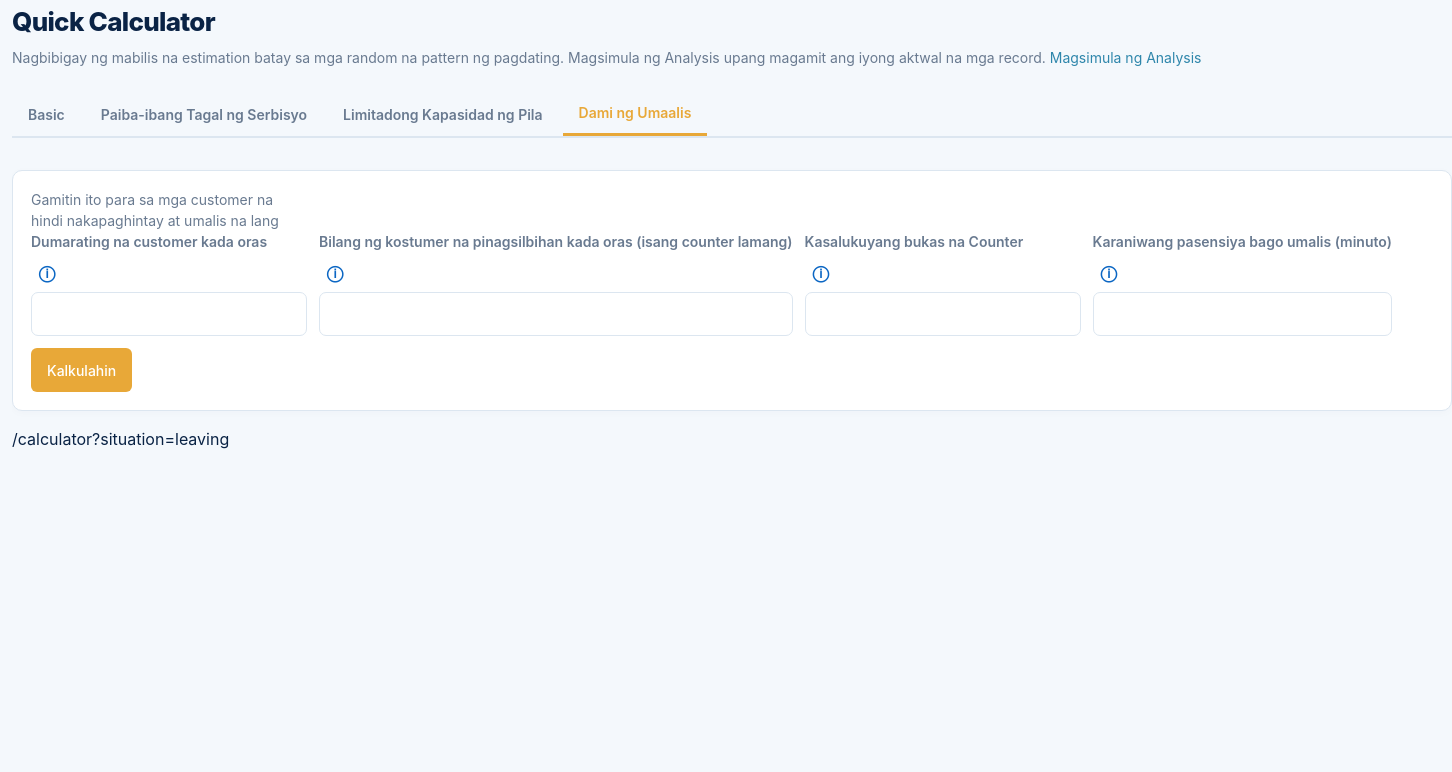
Quick calculator (U9 + B2) › discloses the same Erlang-A meaning in Filipino
Type "20" into the number field labelled "Dumarating na customer kada oras".
click(169, 314); type("20")  # box [31,292,307,336]
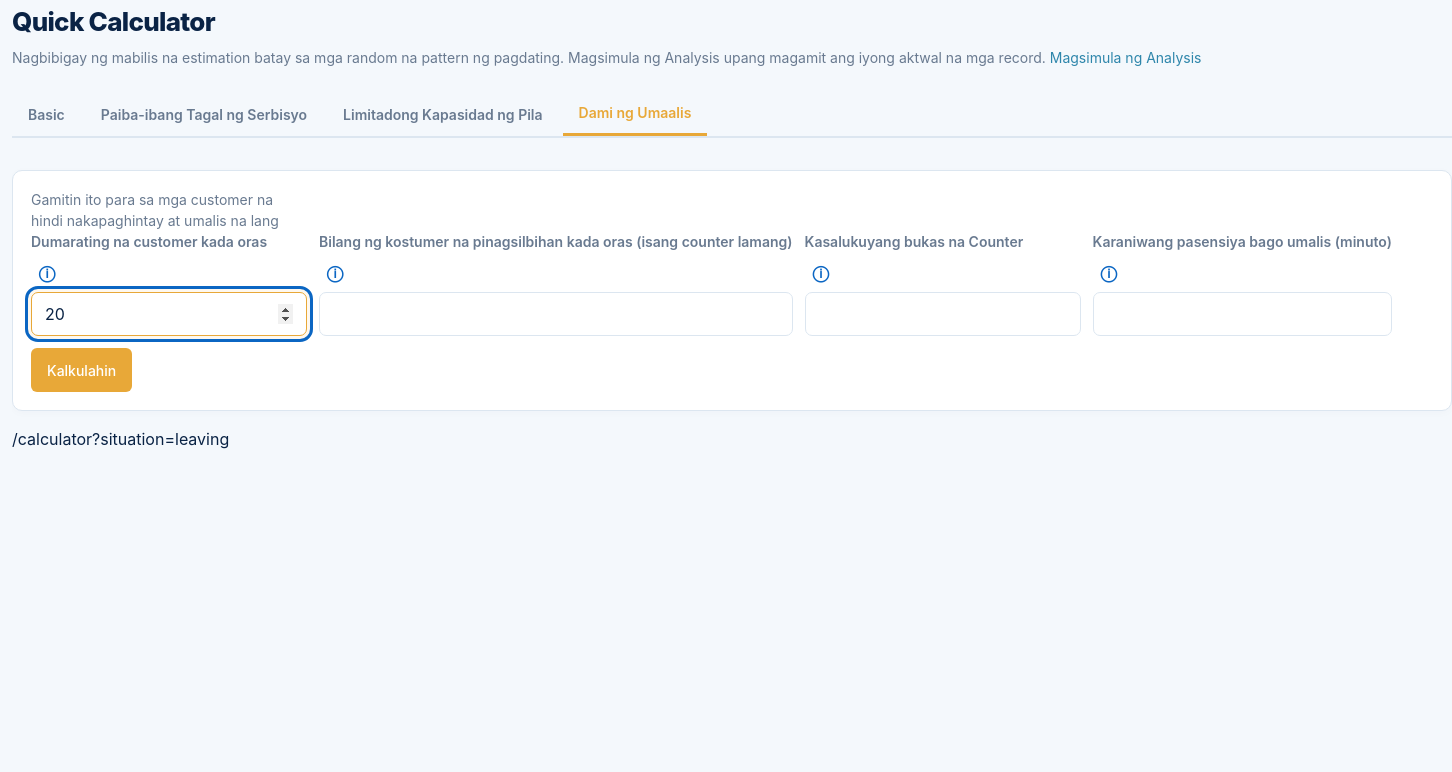
Type "6" into the number field labelled "Bilang ng kostumer na pinagsilbihan kada oras (isang counter lamang)".
click(556, 314); type("6")  # box [319,292,792,336]
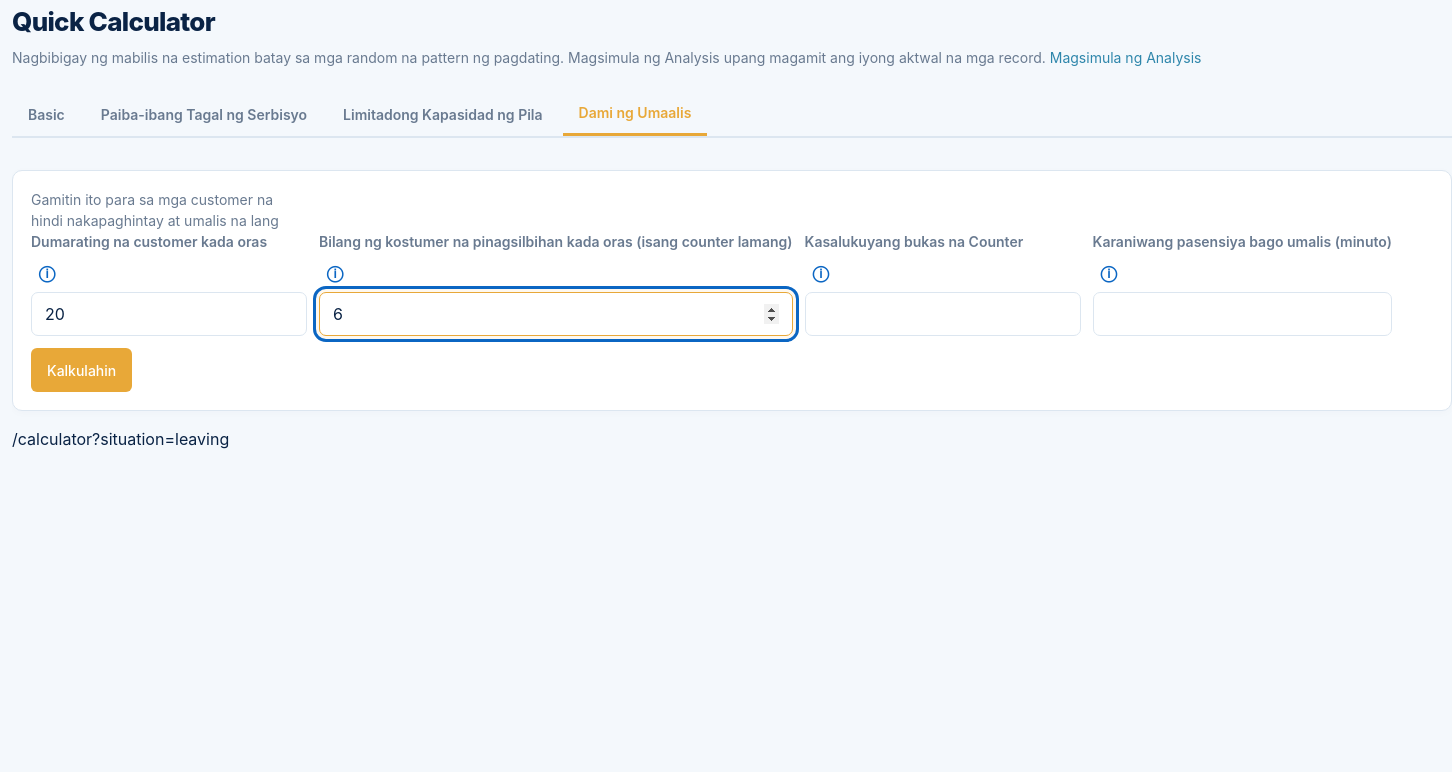
Type "2" into the number field labelled "Kasalukuyang bukas na Counter".
click(942, 314); type("2")  # box [804,292,1080,336]
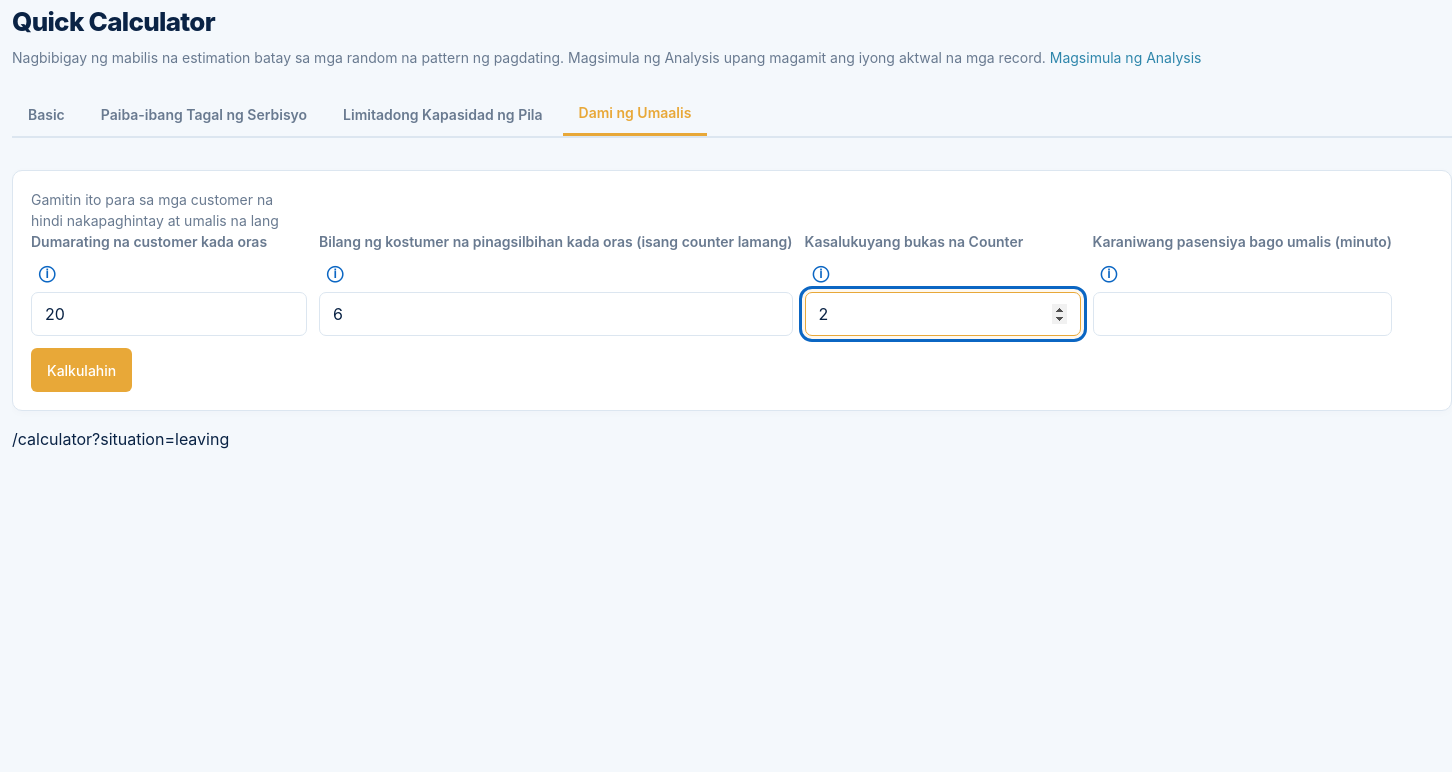
Type "60" into the number field labelled "Karaniwang pasensiya bago umalis (minuto)".
click(1242, 314); type("60")  # box [1092,292,1392,336]
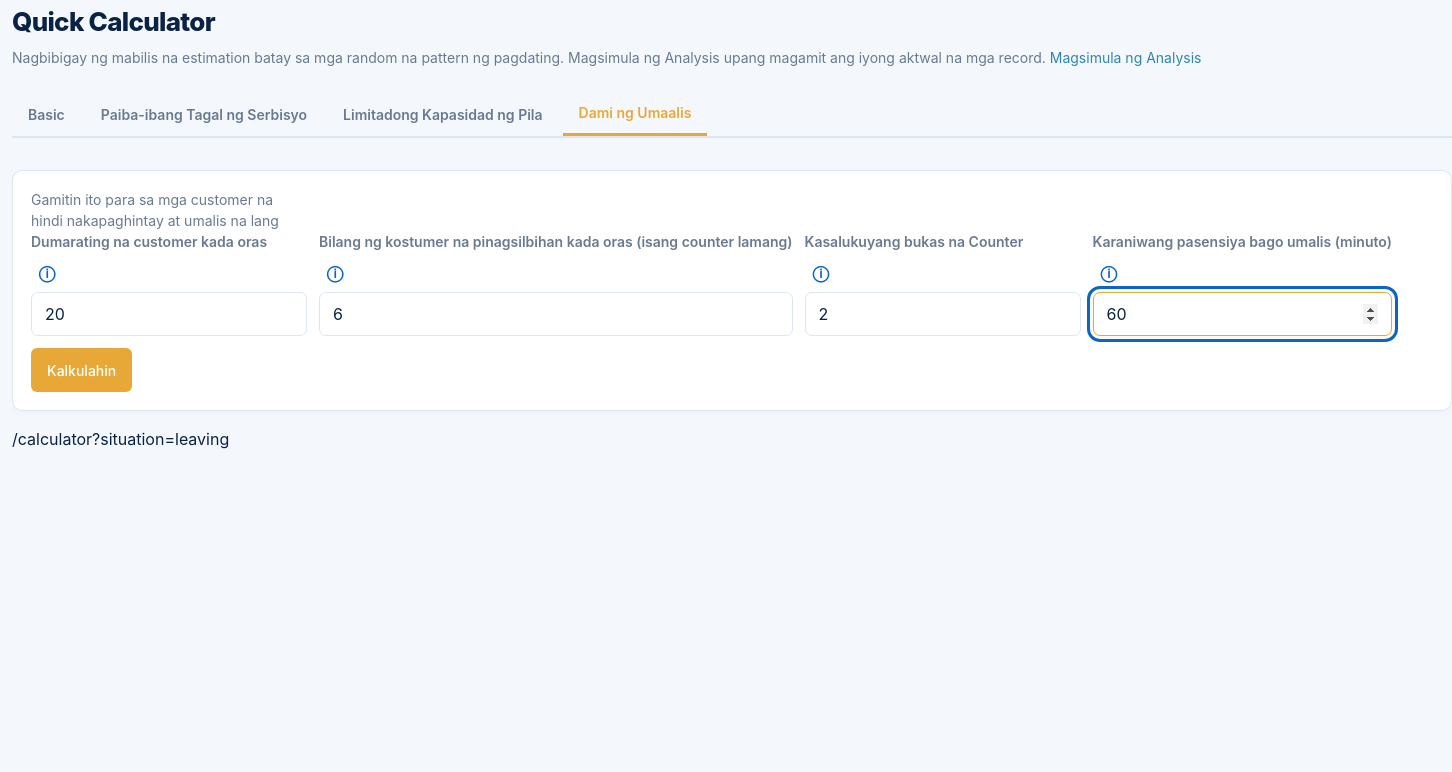
Click the button "Kalkulahin".
click(82, 370)  # box [31,348,132,392]
(page scrolled)
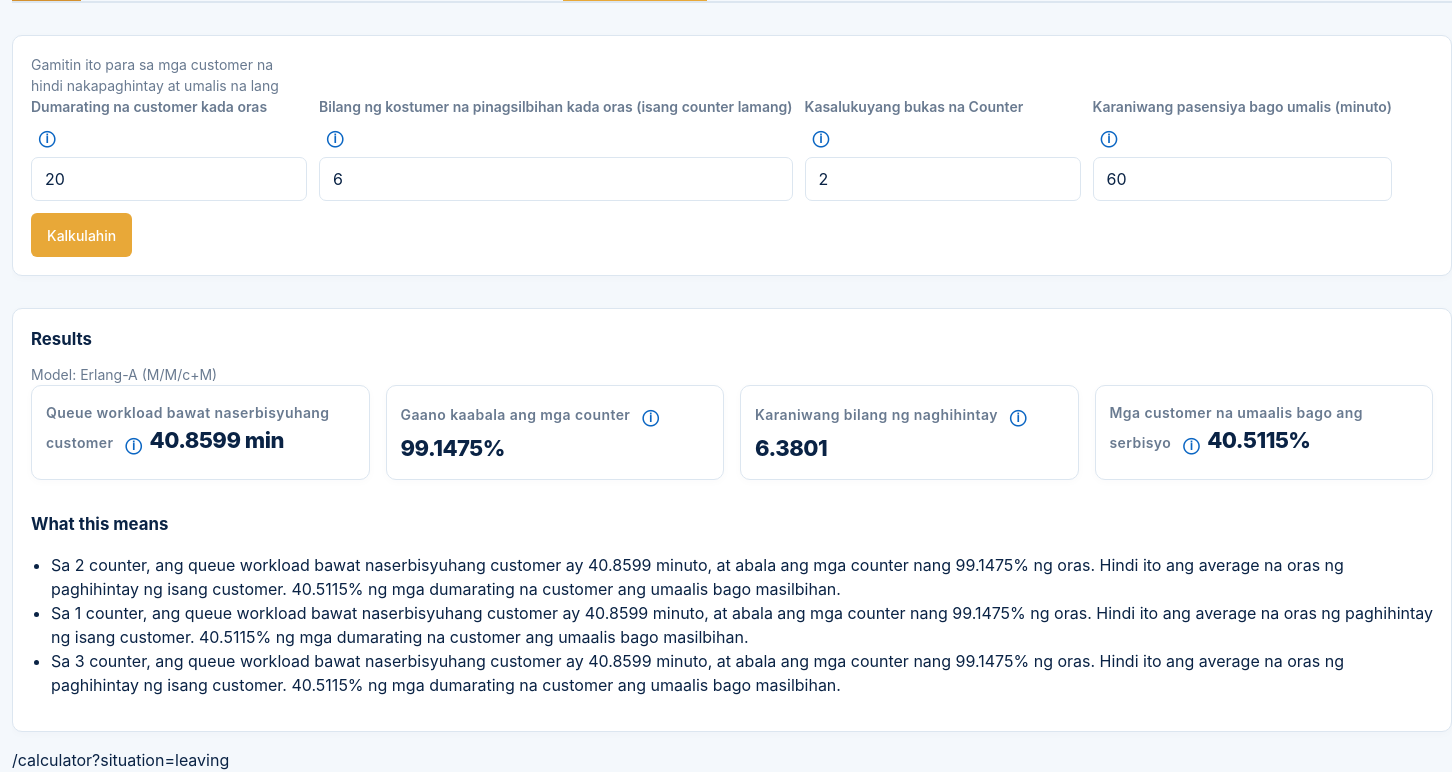
Expected: the element with test id "calculator-wait" shows "Queue workload bawat naserbisyuhang customer", [46,404,330,451]
Expected: the element with test id "calculator-wait" shows "40.8599", [150,427,284,453]
Expected: the list with test id "calculator-meaning" shows "Hindi ito ang average na oras ng paghihintay ng isang customer.", [51,555,1344,599]
